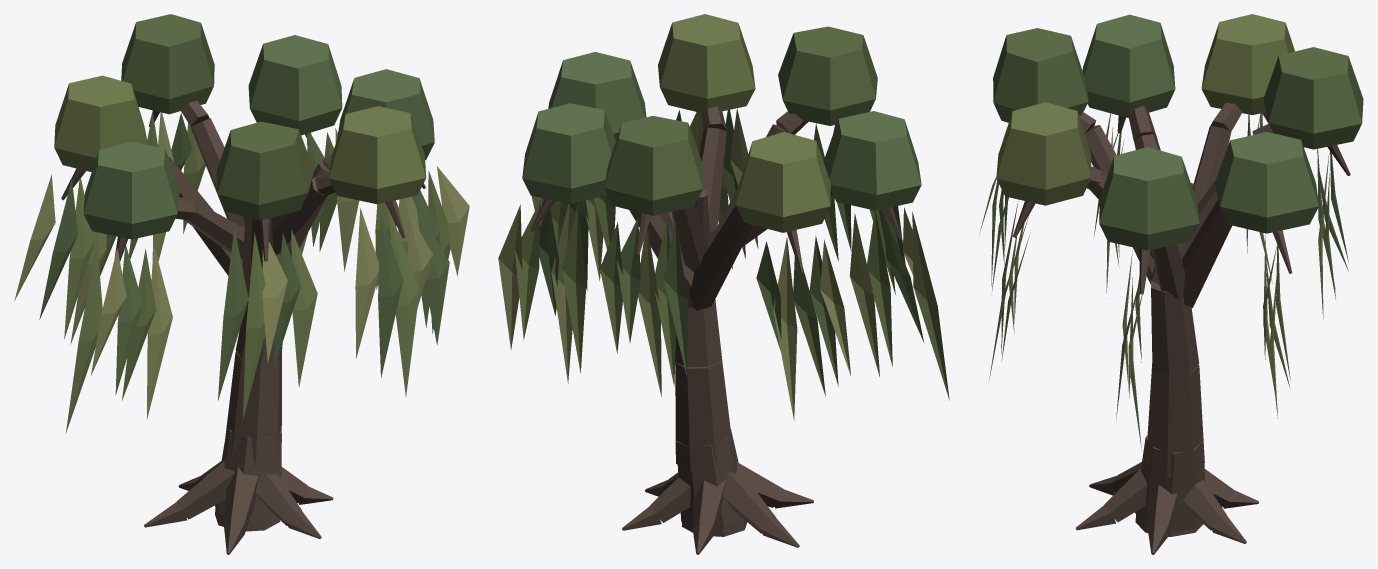
File: marsh-willow-healthy.glb
3 views of the same model, side by side, from view 1: azimuth 30°, elevation 25°; view 2: azimuth 150°, elevation 25°; view 3: azimuth 270°, elevation 25° (orthographic). The views are drawn at different scales.
Parts seen in each view (by area): view 1: Marsh willow · healthy; view 2: Marsh willow · healthy; view 3: Marsh willow · healthy.
Boxes of the visible parts, x1,y1,x2,y2 form: Marsh willow · healthy: (14,14,469,554); Marsh willow · healthy: (498,14,949,554); Marsh willow · healthy: (979,14,1363,554).
Size of the model in its own units: 2.46 by 2.51 by 1.93.
